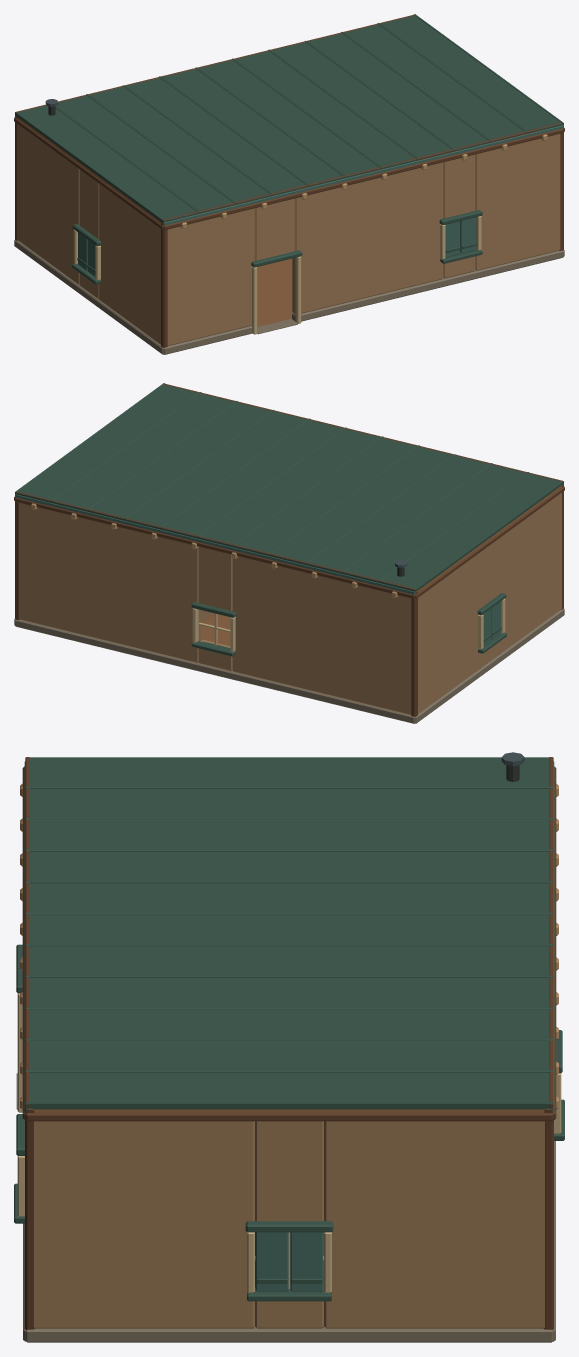
File: house1.glb
3 views of the same model, one above another, from view 1: azimuth 30°, elevation 25°; view 2: azimuth 150°, elevation 25°; view 3: azimuth 270°, elevation 25° (orthographic). The views are drawn at different scales.
Visible parts, largest first — view 1: Envelope; view 2: Envelope; view 3: Envelope.
Boxes of the visible parts, x1,y1,x2,y2 form: Envelope: [14, 14, 564, 354]; Envelope: [14, 383, 564, 723]; Envelope: [14, 757, 564, 1342].
Size of the model in its own units: 14.39 by 4.9 by 9.39.
